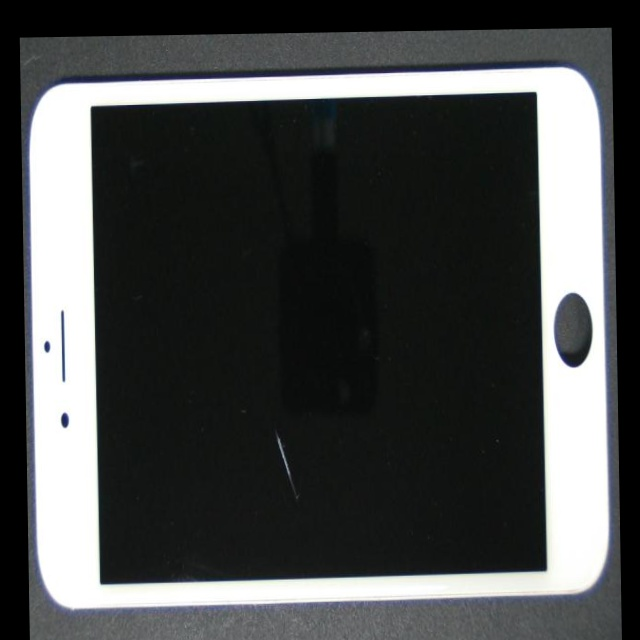scratch: (120, 181, 401, 640)
